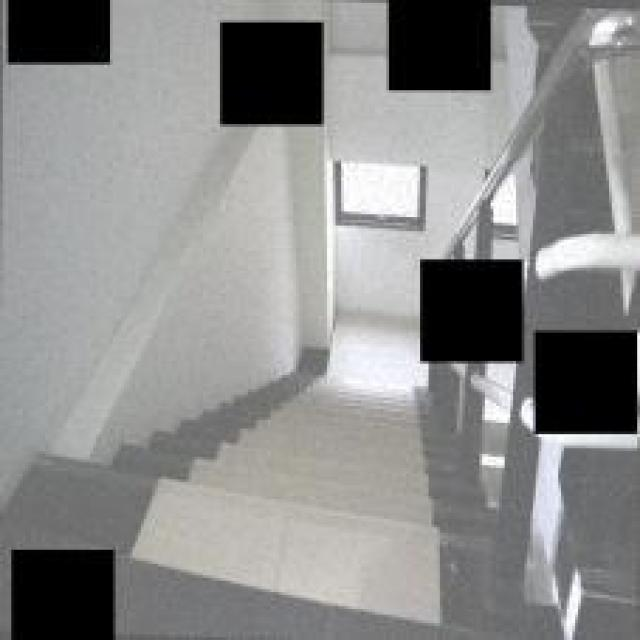downstair: (241, 399, 438, 630)
